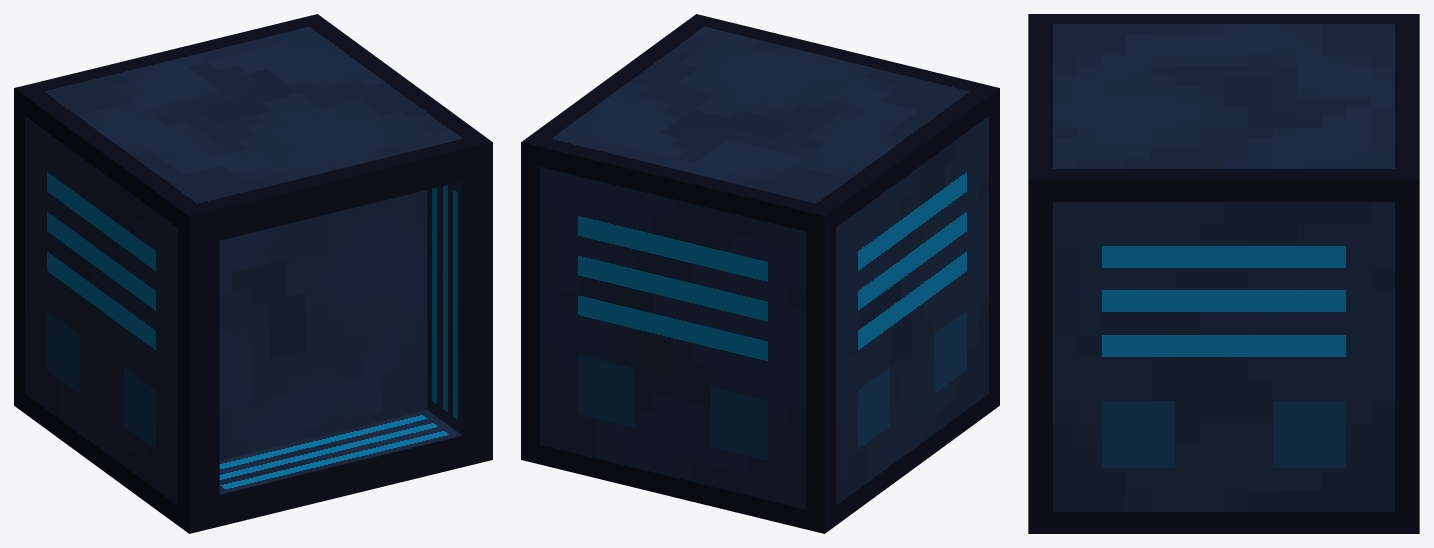
The model's file is storage.obj.
The picture shows the model from 3 angles, left to right: view 1: azimuth 30°, elevation 25°; view 2: azimuth 150°, elevation 25°; view 3: azimuth 270°, elevation 25°; orthographic projection. The views are drawn at different scales.
Parts seen in each view (by area): view 1: Cube.001_Cube.000; view 2: Cube.001_Cube.000; view 3: Cube.001_Cube.000.
Boxes of the visible parts, <box> form: Cube.001_Cube.000: <box>14,14,492,533</box>; Cube.001_Cube.000: <box>521,14,999,533</box>; Cube.001_Cube.000: <box>1028,14,1419,533</box>.
Bounding box in the file's own units: 1 × 1 × 1.
